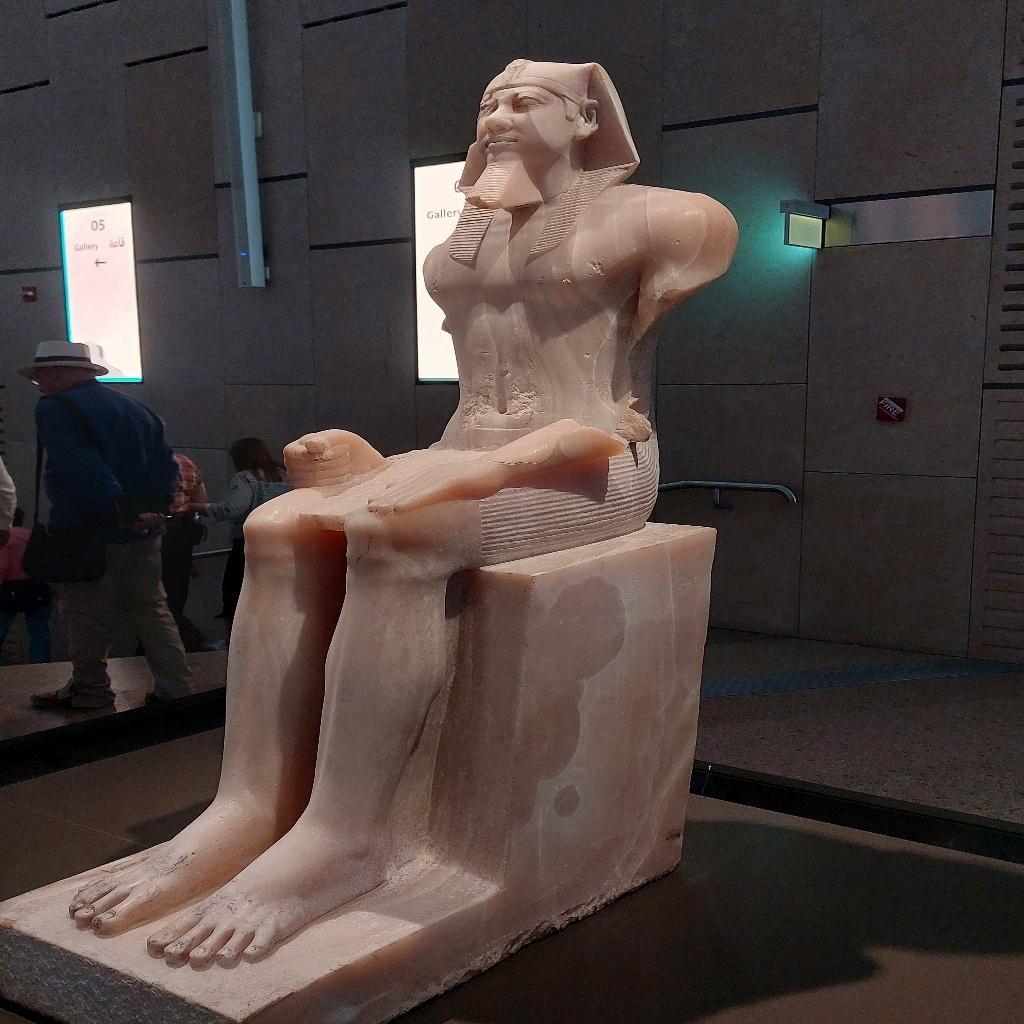Menkaure Statue: (67, 55, 741, 974)
